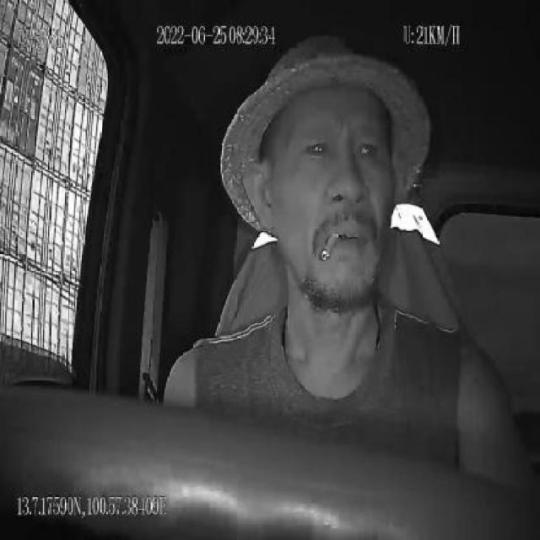smoking: (319, 230, 339, 264)
